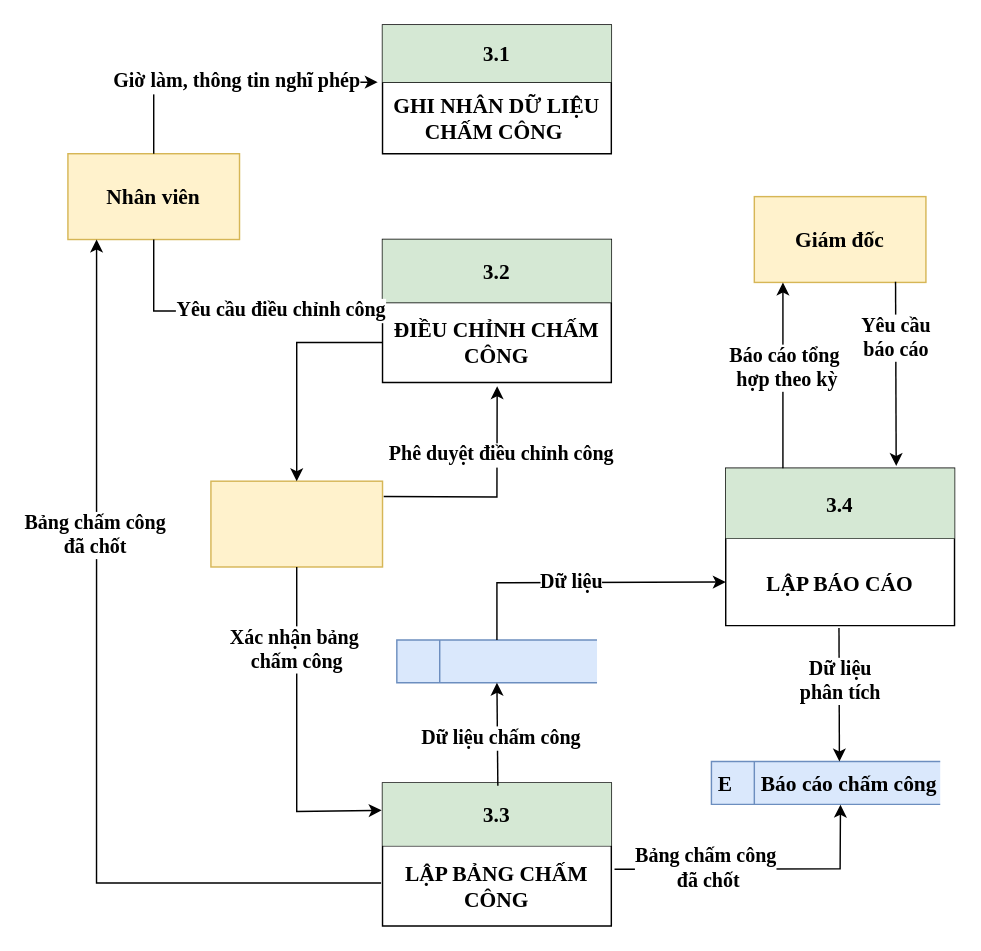
Some shapes in this 981 by 951 pixel diagram are drawn without their labels. The centre of each missing label's shape, as x and y in pixels:
Chuyên viên nhân sự: the point at 296,523
D Bản chấm công: the point at 496,660
